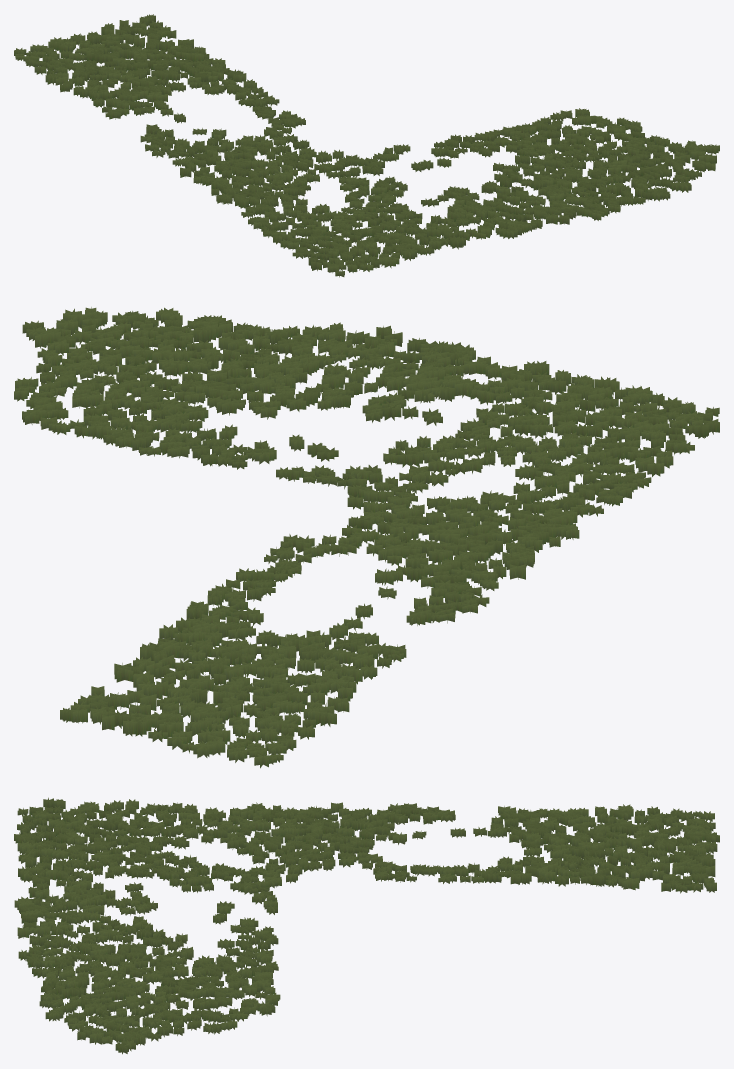
The model's file is TRB8-GRASS-CHUNK-7-5.glb.
3 renders of one model, top to bottom at view 1: azimuth 30°, elevation 25°; view 2: azimuth 150°, elevation 25°; view 3: azimuth 270°, elevation 25°, orthographic. The views are drawn at different scales.
Visible parts, largest first — view 1: TRB8-GRASS-CHUNK-7-5; view 2: TRB8-GRASS-CHUNK-7-5; view 3: TRB8-GRASS-CHUNK-7-5.
Boxes of the visible parts, x1,y1,x2,y2 form: TRB8-GRASS-CHUNK-7-5: (14, 14, 719, 277); TRB8-GRASS-CHUNK-7-5: (14, 307, 719, 768); TRB8-GRASS-CHUNK-7-5: (14, 797, 719, 1054).
Size of the model in its own units: 22.73 by 1.05 by 28.73.
Materials: 1 (1 with a texture image).
